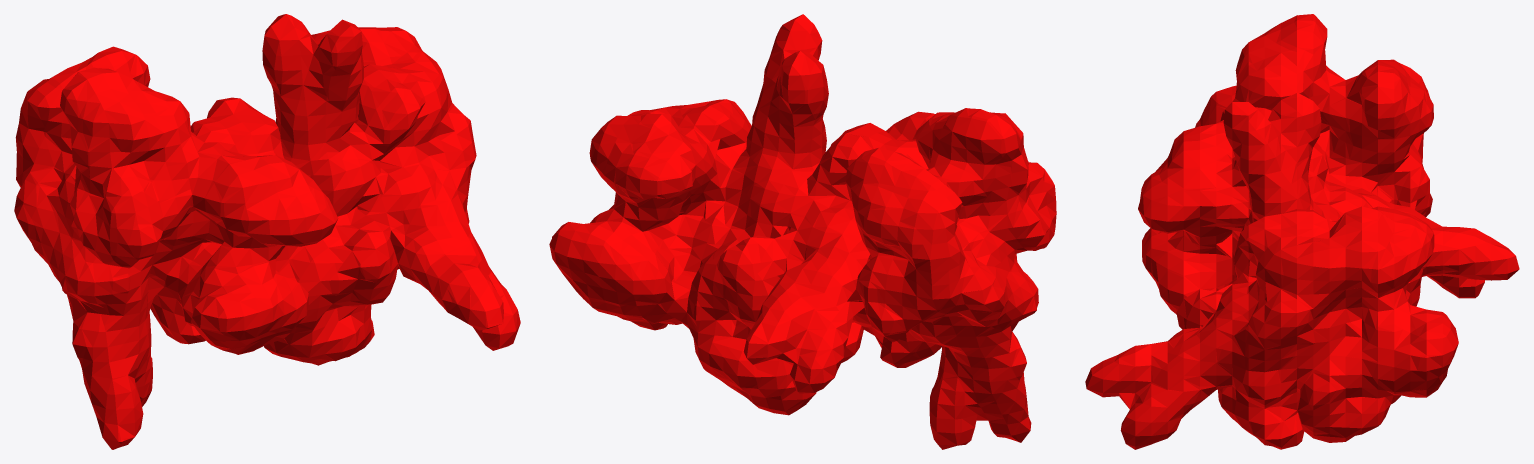
File: matP_coarse.dae
3 renders of one model, left to right at view 1: azimuth 30°, elevation 25°; view 2: azimuth 150°, elevation 25°; view 3: azimuth 270°, elevation 25°, orthographic. The views are drawn at different scales.
Visible parts, largest first — view 1: matP; view 2: matP; view 3: matP.
Part boxes in pixels (<box>): matP: <box>14,14,520,449</box>; matP: <box>549,14,1056,449</box>; matP: <box>1085,14,1519,449</box>.
Size of the model in its own units: 128 by 109 by 119.
